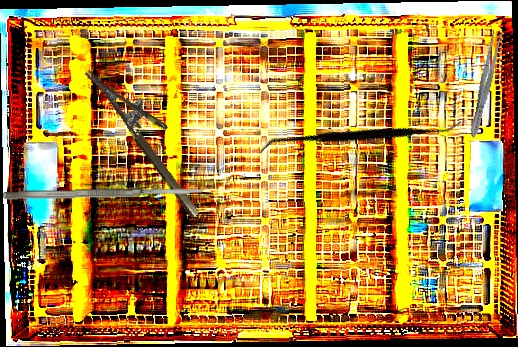Dressing Forceps: (466, 28, 505, 140)
Needle Holder: (84, 52, 220, 220)
Spatula Surgical: (257, 41, 464, 233), (2, 186, 206, 201)
